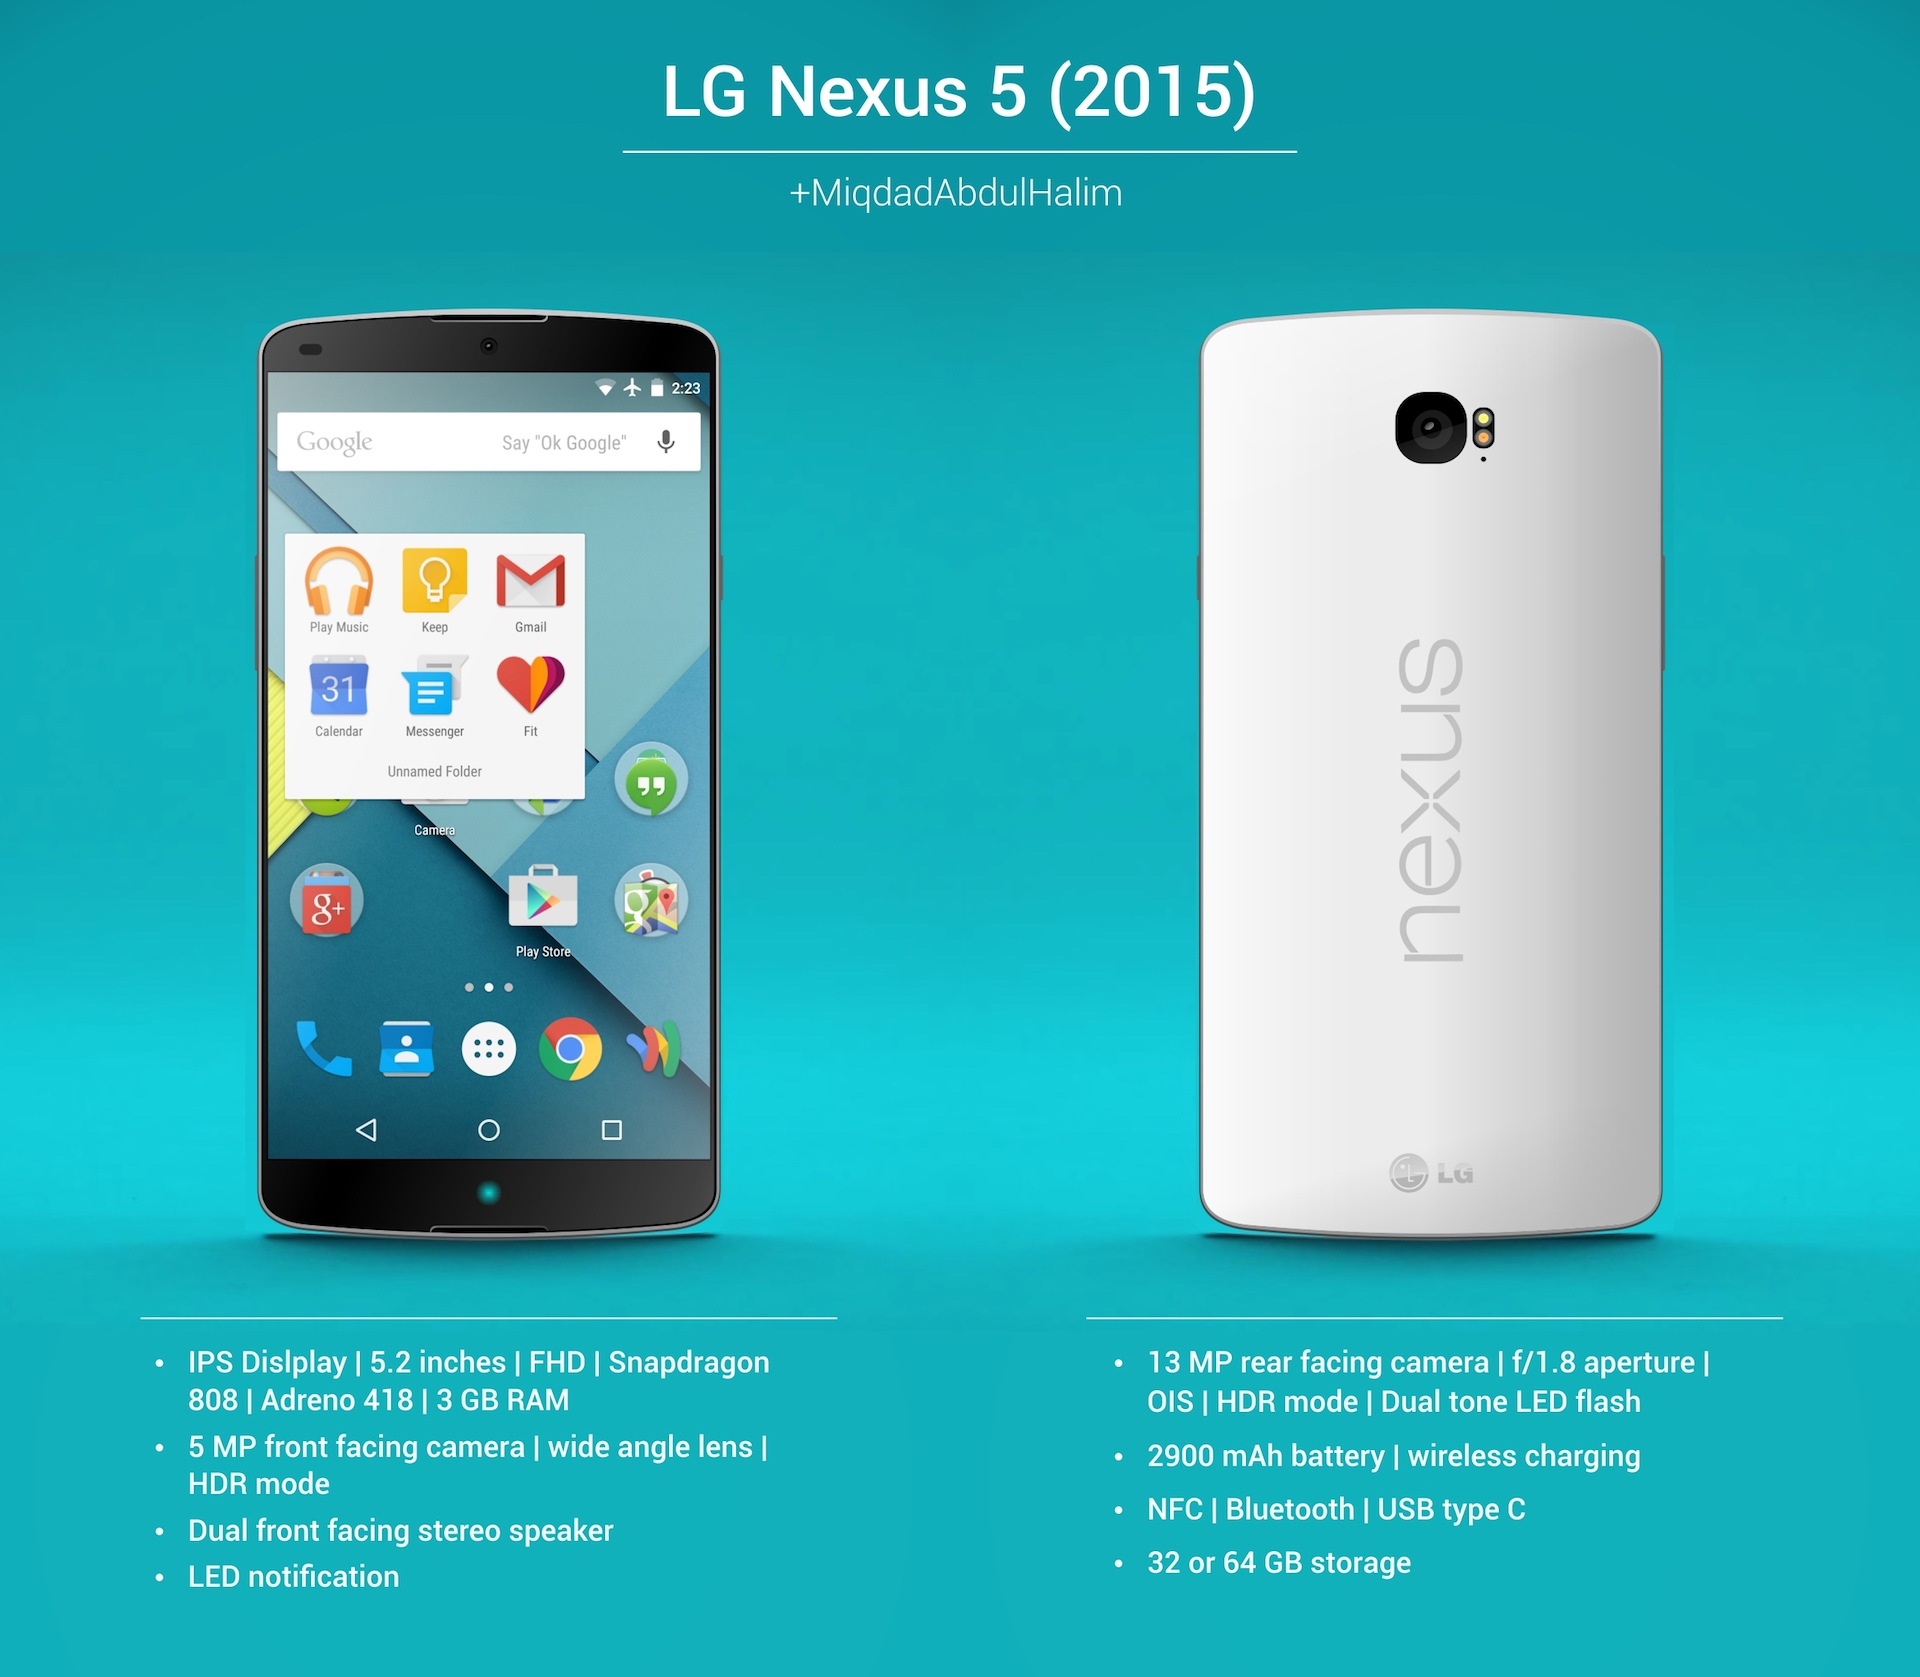smartphone: (1192, 304, 1673, 1244), (251, 307, 730, 1238)
